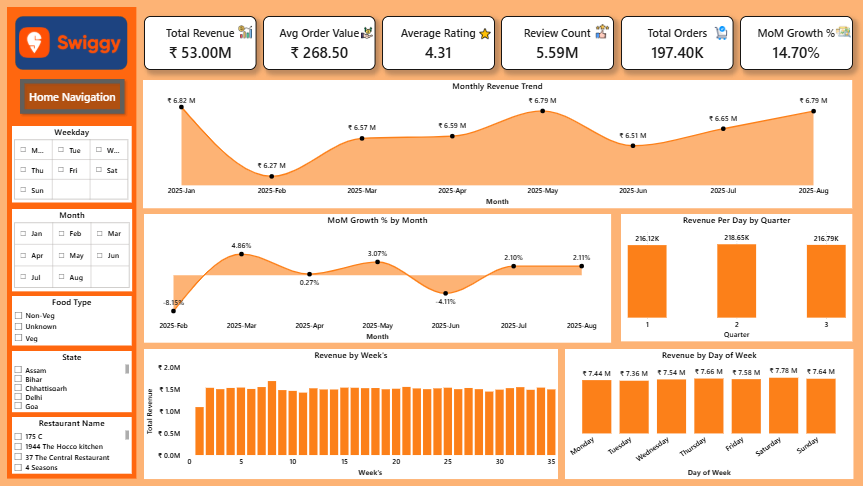

What the dashboard file says about the page in this screenshot:
{"tool":"powerbi","page":{"name":"Business Overview","canvas":[1920,1080],"ordinal":1},"visuals":[{"type":"cardVisual","fields":{"Data":["fact_swiggy_orders.Total Revenue"]},"box":[320.2,34.6,250,120.2],"z":0},{"type":"cardVisual","fields":{"Data":["fact_swiggy_orders.Total Orders"]},"box":[1379.8,34.6,250,120.2],"z":1000},{"type":"cardVisual","fields":{"Data":["fact_swiggy_orders.Average Rating"]},"box":[849,34.6,251,120.2],"z":2000},{"type":"cardVisual","fields":{"Data":["fact_swiggy_orders.Rating Count"]},"box":[1114.4,34.6,251,120.2],"z":3000},{"type":"cardVisual","fields":{"Data":["fact_swiggy_orders.Avg Order Value"]},"box":[584.6,34.6,250,120.2],"z":4000},{"type":"shape","box":[16.3,16.3,287.5,1048.1],"z":5000},{"type":"shape","box":[32.6,35,250,120],"z":6000},{"type":"image","box":[43.3,45,226,100],"z":7000},{"type":"cardVisual","fields":{"Data":["fact_swiggy_orders.MoM Growth %"]},"box":[1644.2,34.6,251,120.2],"z":8000},{"type":"lineChart","title":"Monthly Revenue Trend","fields":{"Y":["fact_swiggy_orders.Total Revenue"],"Category":["dim_date.Year_Month"]},"box":[318.1,177.7,1575.5,285.1],"z":9000},{"type":"clusteredColumnChart","title":"Revenue by Day of Week","fields":{"Category":["dim_date.Day_of_Week"],"Y":["fact_swiggy_orders.Total Revenue"]},"box":[1255.7,775.3,641.2,288.7],"z":10000},{"type":"clusteredColumnChart","title":"Revenue by Week''s","fields":{"Y":["fact_swiggy_orders.Total Revenue"],"Category":["dim_date.Week_Number"]},"box":[320.6,775.3,919.6,288.7],"z":11000},{"type":"lineChart","title":"MoM Growth % by Month","fields":{"Y":["fact_swiggy_orders.MoM Growth %"],"Category":["dim_date.Year_Month"]},"box":[319,476.2,1038.1,285.7],"z":12000},{"type":"advancedSlicerVisual","title":"Month","fields":{"Values":["dim_date.Month_Short"]},"box":[26.3,463.6,266.7,182.8],"z":13000},{"type":"listSlicer","fields":{"Values":["dim_restaurant.Restaurant_Name"]},"box":[26.3,927.3,265.7,126.3],"z":14000},{"type":"listSlicer","fields":{"Values":["dim_location.State"]},"box":[26.3,779.8,265.7,136.4],"z":15000},{"type":"advancedSlicerVisual","fields":{"Values":["dim_date.Weekday_Short"]},"box":[26.3,280.8,265.7,169.7],"z":16000},{"type":"listSlicer","title":"Food Type","fields":{"Values":["dim_dish.Food_Type"]},"box":[26.3,658.6,265.7,110.1],"z":17000},{"type":"actionButton","box":[35,167.5,250,95],"z":18000},{"type":"image","box":[528,56,32,30],"z":19000},{"type":"image","box":[801.9,58.7,26,30.8],"z":20000},{"type":"image","box":[1061.5,61.5,30.8,25],"z":21000},{"type":"image","box":[1847.5,42.5,52.5,60],"z":22000},{"type":"image","box":[1320,54,38,32],"z":23000},{"type":"image","box":[1586.5,58.7,30.8,30.8],"z":24000},{"type":"clusteredColumnChart","title":"Revenue Per Day by Quarter","fields":{"Category":["dim_date.Quarter"],"Y":["fact_swiggy_orders.Revenue per Day"]},"box":[1381,476.2,514.3,283.3],"z":25000}]}

Visuals, with their boxes in screenshot pixels (x1, y1, x2, y2), scaled from the page's 1920x1080 canvas onto the 863x486 screenshot:
cardVisual - fact_swiggy_orders.Total Revenue: bbox=(144, 16, 256, 70)
cardVisual - fact_swiggy_orders.Total Orders: bbox=(620, 16, 733, 70)
cardVisual - fact_swiggy_orders.Average Rating: bbox=(382, 16, 494, 70)
cardVisual - fact_swiggy_orders.Rating Count: bbox=(501, 16, 614, 70)
cardVisual - fact_swiggy_orders.Avg Order Value: bbox=(263, 16, 375, 70)
shape: bbox=(7, 7, 137, 479)
shape: bbox=(15, 16, 127, 70)
image: bbox=(19, 20, 121, 65)
cardVisual - fact_swiggy_orders.MoM Growth %: bbox=(739, 16, 852, 70)
"Monthly Revenue Trend" lineChart: bbox=(143, 80, 851, 208)
"Revenue by Day of Week" clusteredColumnChart: bbox=(564, 349, 853, 479)
"Revenue by Week''s" clusteredColumnChart: bbox=(144, 349, 557, 479)
"MoM Growth % by Month" lineChart: bbox=(143, 214, 610, 343)
"Month" advancedSlicerVisual: bbox=(12, 209, 132, 291)
listSlicer - dim_restaurant.Restaurant_Name: bbox=(12, 417, 131, 474)
listSlicer - dim_location.State: bbox=(12, 351, 131, 412)
advancedSlicerVisual - dim_date.Weekday_Short: bbox=(12, 126, 131, 203)
"Food Type" listSlicer: bbox=(12, 296, 131, 346)
actionButton: bbox=(16, 75, 128, 118)
image: bbox=(237, 25, 252, 39)
image: bbox=(360, 26, 372, 40)
image: bbox=(477, 28, 491, 39)
image: bbox=(830, 19, 854, 46)
image: bbox=(593, 24, 610, 39)
image: bbox=(713, 26, 727, 40)
"Revenue Per Day by Quarter" clusteredColumnChart: bbox=(621, 214, 852, 342)
